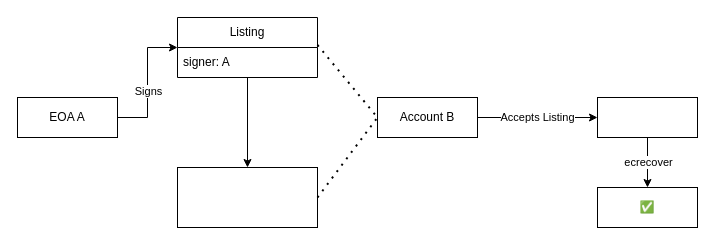
Some shapes in this 715 by 245 pixel diagram are drawn without their labels. Here are the shapes that lost their labels. From the top down, the box of each, then its label:
(596, 96, 698, 138): Rentals
(176, 166, 318, 228): Signature Signed by A
